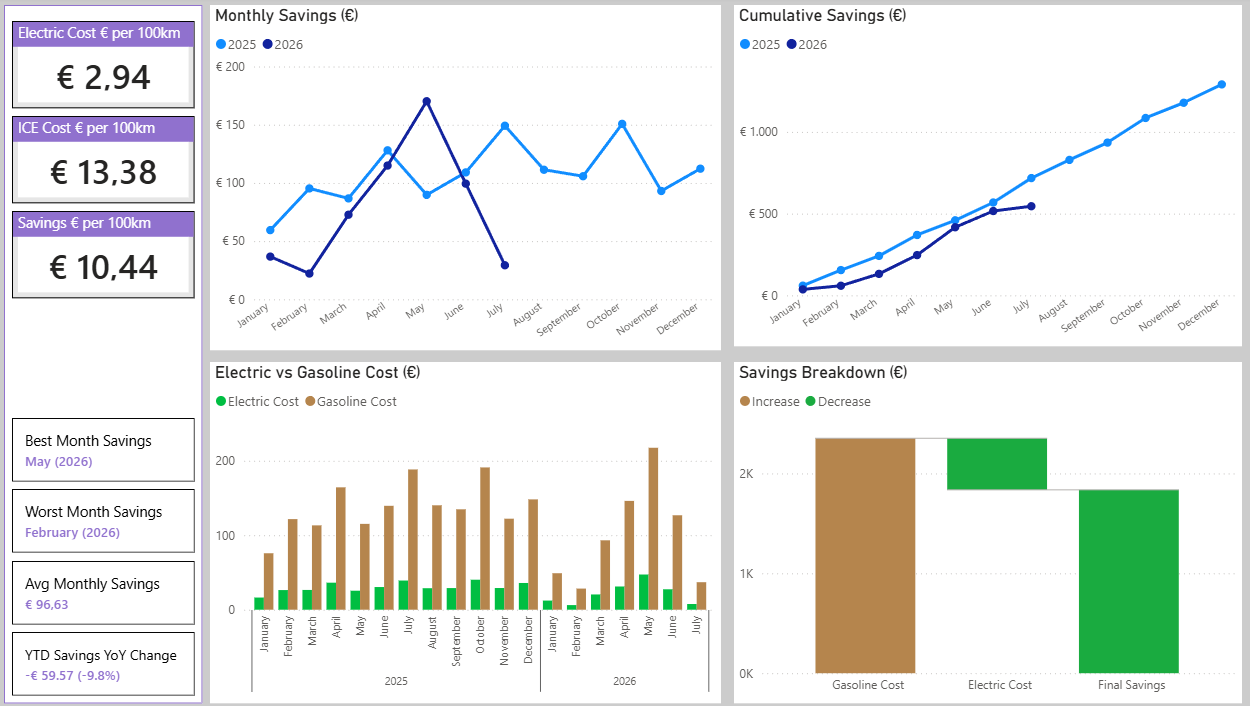

This screenshot's page, from the dashboard's own definition file:
{"tool":"powerbi","page":{"name":"Savings & Costs","canvas":[1280,720],"ordinal":1},"visuals":[{"type":"shape","box":[8,8,200,704],"z":0,"group":"g1"},{"type":"lineChart","title":"Cumulative Savings (€)","fields":{"Category":["dim_date.month_name"],"Series":["dim_date.year"],"Y":["trip_reports_enriched.Cumulative Savings Monthly"]},"box":[744,8,512,344],"z":1000},{"type":"lineChart","title":"Monthly Savings (€)","fields":{"Y":["trip_reports_enriched.Savings"],"Series":["dim_date.year"],"Category":["dim_date.month_name"]},"box":[216,8,515,348],"z":2000},{"type":"cardVisual","title":"Electric Cost € per 100km","fields":{"Data":["trip_reports_enriched.Electric Cost per 100km"]},"box":[16,24,184,88],"z":3000,"group":"g1"},{"type":"cardVisual","title":"ICE Cost € per 100km","fields":{"Data":["trip_reports_enriched.Gasoline Cost per 100km"]},"box":[16,120,184,88],"z":4000,"group":"g1"},{"type":"cardVisual","title":"Savings € per 100km","fields":{"Data":["trip_reports_enriched.Savings per 100km"]},"box":[16,216,184,88],"z":5000,"group":"g1"},{"type":"clusteredColumnChart","title":"Electric vs Gasoline Cost (€)","fields":{"Y":["trip_reports_enriched.Electric Cost","trip_reports_enriched.Gasoline Cost"],"Category":["dim_date.year","dim_date.month_name"]},"box":[216,368,515,344],"z":6000},{"type":"waterfallChart","title":"Savings Breakdown (€)","fields":{"Category":["Cost Breakdown.Category"],"Y":["Cost Breakdown.Cost Breakdown Value"]},"box":[744,368,512,344],"z":7000},{"type":"cardVisual","fields":{"Data":["trip_reports_enriched.Best Month Savings"]},"box":[16,424,184,64],"z":8000,"group":"g1"},{"type":"cardVisual","fields":{"Data":["trip_reports_enriched.Worst Month Savings"]},"box":[16,496,184,64],"z":9000,"group":"g1"},{"type":"cardVisual","fields":{"Data":["trip_reports_enriched.Avg Monthly Savings"]},"box":[16,568,184,64],"z":10000,"group":"g1"},{"type":"cardVisual","fields":{"Data":["trip_reports_enriched.YoY Final"]},"box":[16,640,184,64],"z":11000,"group":"g1"},{"type":"group","id":"g1","title":"Group 1","box":[8,8,200,704],"z":11001}]}

Visuals, with their boxes in screenshot pixels (x1, y1, x2, y2), scaled from the page's 1280x720 canvas onto the 1250x706 screenshot:
shape: x1=8 y1=8 x2=203 y2=698
"Cumulative Savings (€)" lineChart: x1=727 y1=8 x2=1227 y2=345
"Monthly Savings (€)" lineChart: x1=211 y1=8 x2=714 y2=349
"Electric Cost € per 100km" cardVisual: x1=16 y1=24 x2=195 y2=110
"ICE Cost € per 100km" cardVisual: x1=16 y1=118 x2=195 y2=204
"Savings € per 100km" cardVisual: x1=16 y1=212 x2=195 y2=298
"Electric vs Gasoline Cost (€)" clusteredColumnChart: x1=211 y1=361 x2=714 y2=698
"Savings Breakdown (€)" waterfallChart: x1=727 y1=361 x2=1227 y2=698
cardVisual - trip_reports_enriched.Best Month Savings: x1=16 y1=416 x2=195 y2=479
cardVisual - trip_reports_enriched.Worst Month Savings: x1=16 y1=486 x2=195 y2=549
cardVisual - trip_reports_enriched.Avg Monthly Savings: x1=16 y1=557 x2=195 y2=620
cardVisual - trip_reports_enriched.YoY Final: x1=16 y1=628 x2=195 y2=690
"Group 1" group: x1=8 y1=8 x2=203 y2=698
